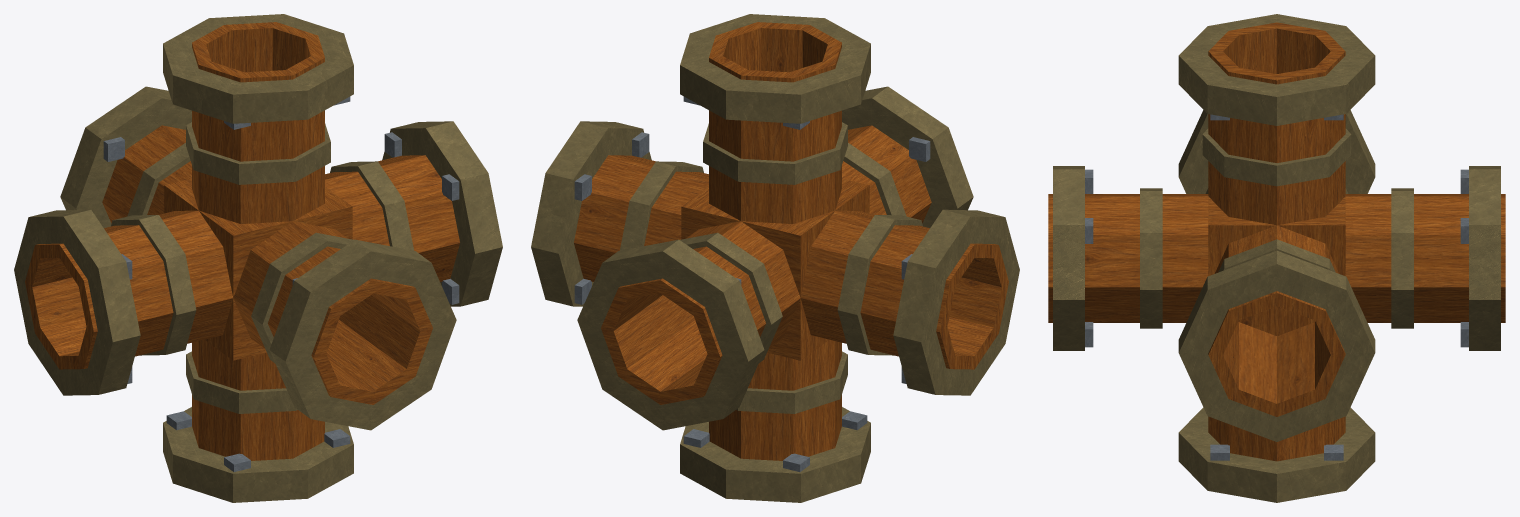
The model's file is wood_pipe.gltf.
The picture shows the model from 3 angles, left to right: view 1: azimuth 30°, elevation 25°; view 2: azimuth 150°, elevation 25°; view 3: azimuth 270°, elevation 25°; orthographic projection.
Bounding box in the file's own units: 1 × 1 × 1.
3 materials, 3 textured.
